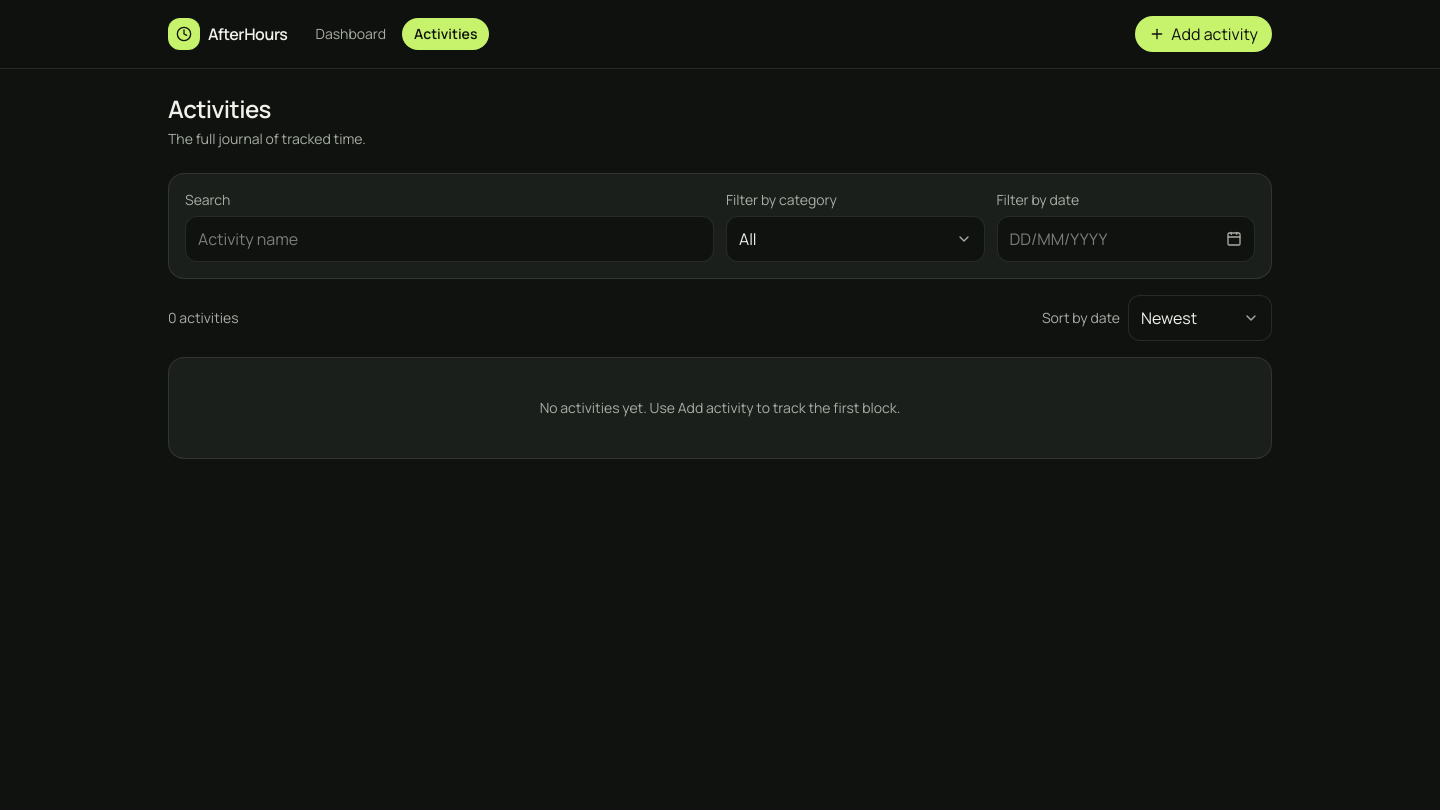
Test: AfterHours › validates the activity form
What coordinates should you click on to do the following:
click the button "Add activity"
I would click on:
 (1204, 34)
Its box is [1135,16,1272,52].
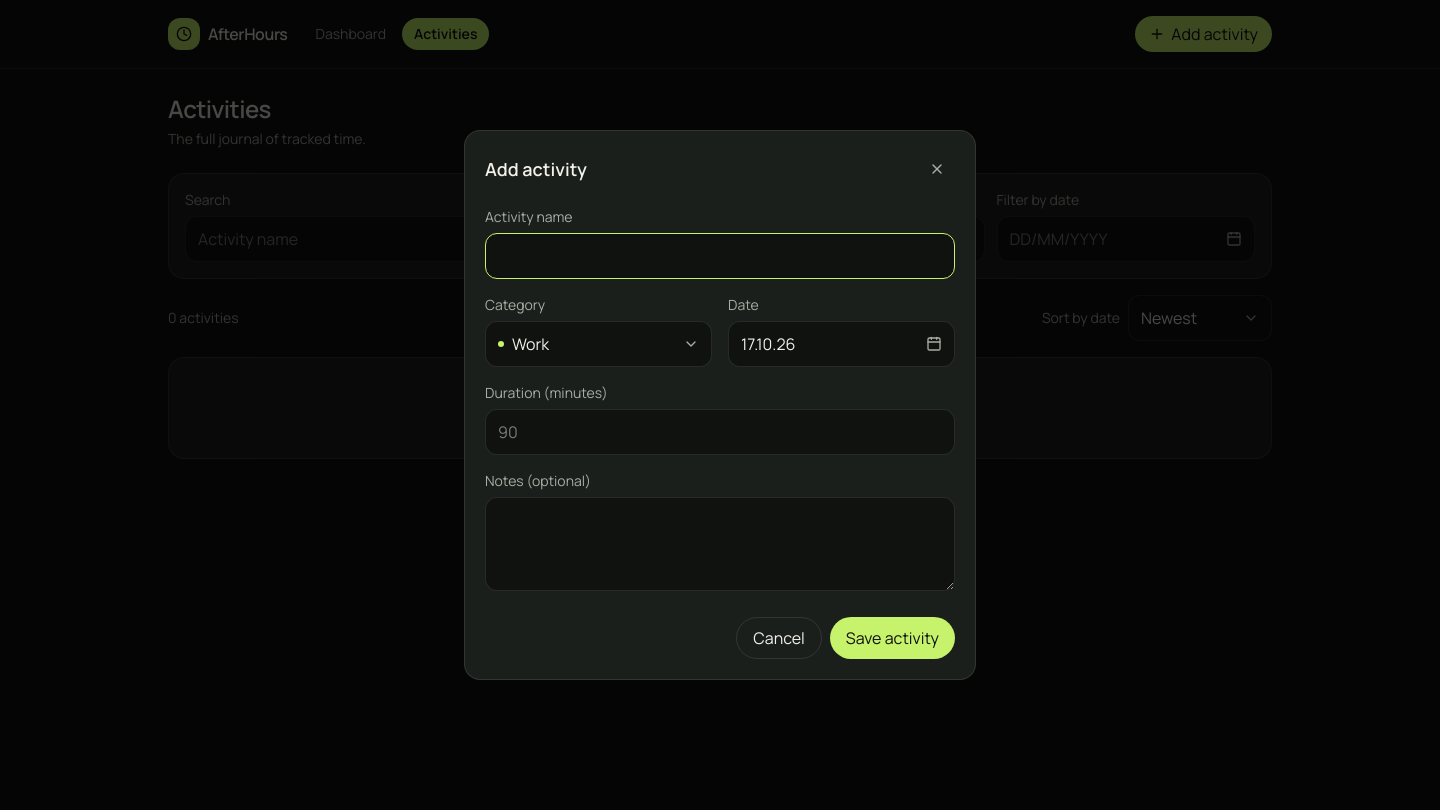
What coordinates should you click on to do the following:
click the button "Save activity"
I would click on:
 (892, 638)
Its box is [830,617,955,659].
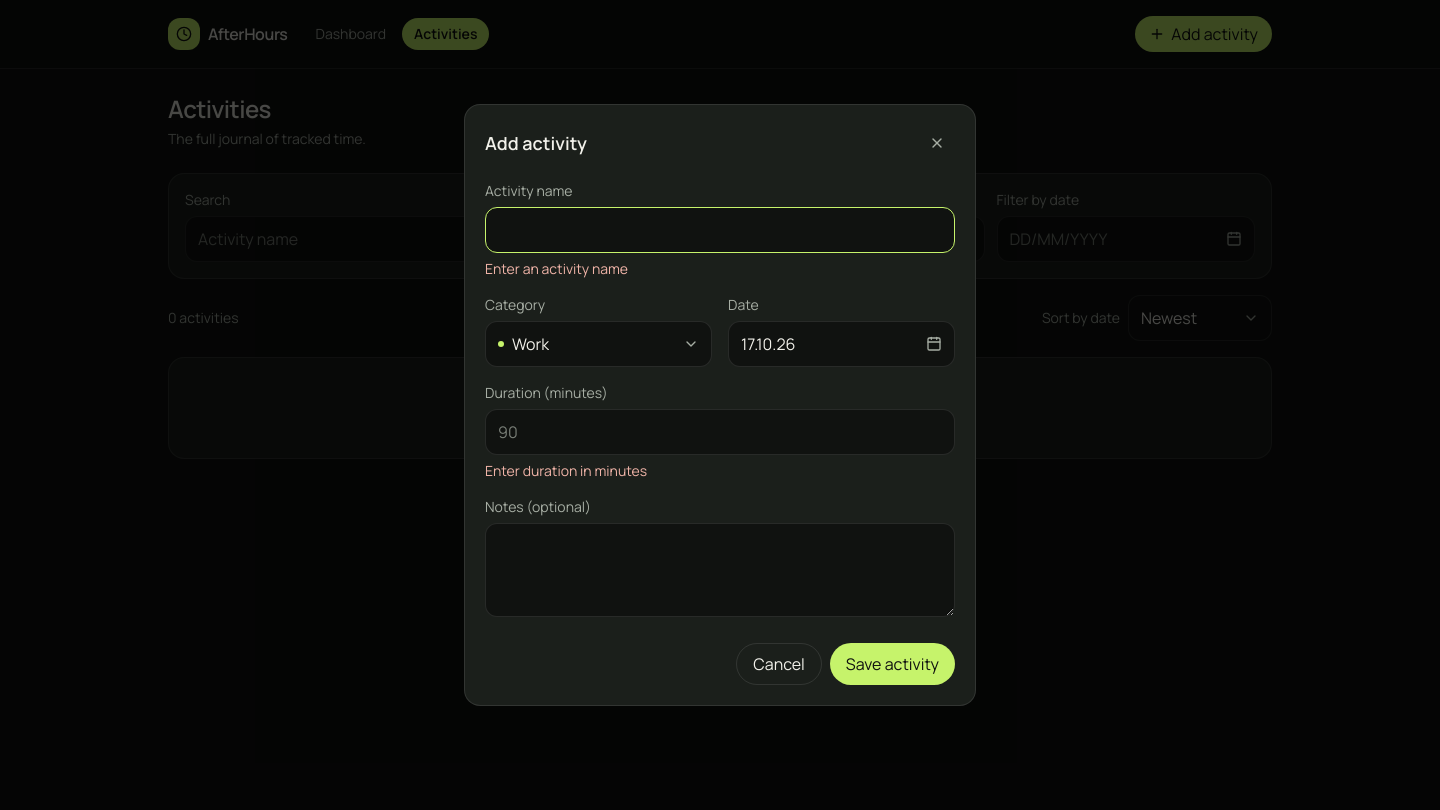
Expected: the text "Enter an activity name" is shown, [485,259,628,278]
Expected: the text "Enter duration in minutes" is shown, [485,461,647,480]
